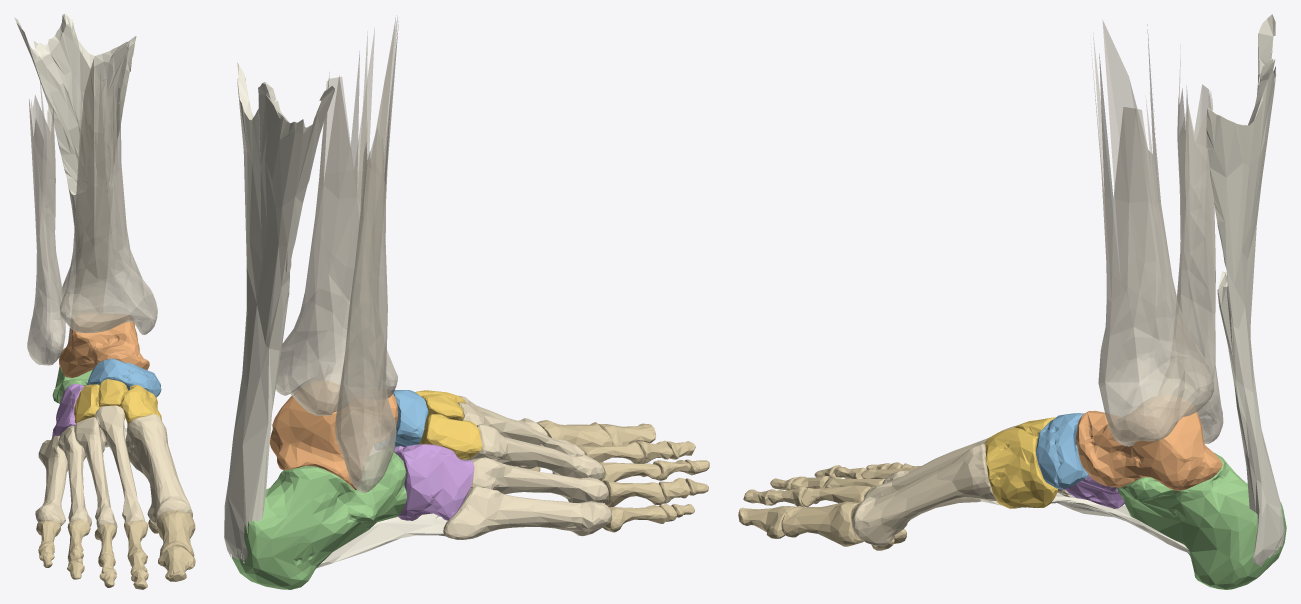
File: foot.glb
3 views of the same model, side by side, from view 1: azimuth 30°, elevation 25°; view 2: azimuth 150°, elevation 25°; view 3: azimuth 270°, elevation 25° (orthographic). The views are drawn at different scales.
Parts seen in each view (by area): view 1: leg, tendon, metatarsals, phalanges, talus, cuneiforms, navicular, cuboid, calcaneus; view 2: leg, tendon, metatarsals, calcaneus, phalanges, talus, cuboid, cuneiforms, navicular; view 3: leg, tendon, calcaneus, talus, phalanges, metatarsals, cuneiforms, navicular, cuboid.
Boxes of the visible parts, x1=… form: leg: x1=27, y1=51, x2=157, y2=365; tendon: x1=14, y1=14, x2=136, y2=447; metatarsals: x1=35, y1=405, x2=192, y2=530; phalanges: x1=36, y1=510, x2=195, y2=589; talus: x1=59, y1=313, x2=149, y2=377; cuneiforms: x1=74, y1=379, x2=161, y2=429; navicular: x1=87, y1=358, x2=161, y2=397; cuboid: x1=51, y1=384, x2=84, y2=438; calcaneus: x1=52, y1=366, x2=92, y2=404; leg: x1=275, y1=15, x2=398, y2=492; tendon: x1=224, y1=62, x2=466, y2=567; metatarsals: x1=443, y1=395, x2=611, y2=539; calcaneus: x1=231, y1=449, x2=406, y2=589; phalanges: x1=515, y1=420, x2=709, y2=532; talus: x1=269, y1=380, x2=397, y2=489; cuboid: x1=394, y1=444, x2=474, y2=520; cuneiforms: x1=415, y1=390, x2=482, y2=459; navicular: x1=374, y1=390, x2=428, y2=449; leg: x1=1091, y1=20, x2=1223, y2=446; tendon: x1=980, y1=14, x2=1284, y2=566; calcaneus: x1=1117, y1=452, x2=1286, y2=589; talus: x1=1075, y1=395, x2=1222, y2=490; phalanges: x1=738, y1=462, x2=920, y2=550; metatarsals: x1=851, y1=426, x2=1071, y2=545; cuneiforms: x1=985, y1=417, x2=1057, y2=508; navicular: x1=1036, y1=413, x2=1089, y2=489; cuboid: x1=1059, y1=475, x2=1124, y2=508.
Size of the model in its own units: 0.1286 by 0.2314 by 0.212.
